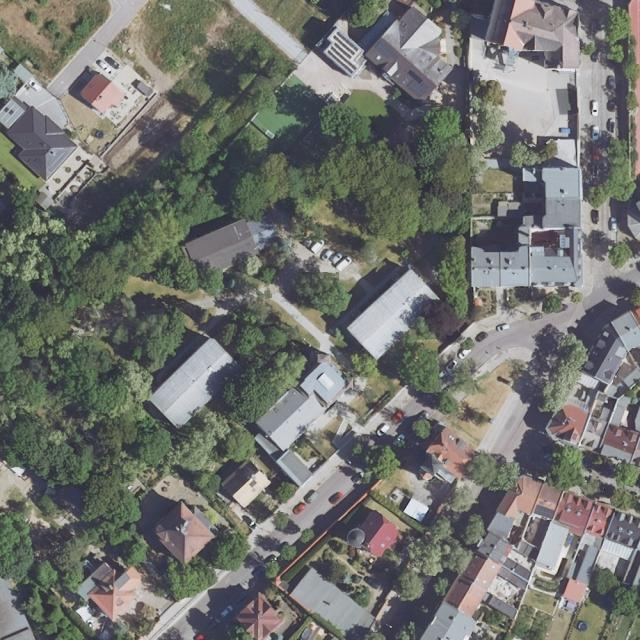PV: (326, 30, 359, 74), (361, 14, 395, 47), (407, 79, 429, 97), (375, 41, 396, 58), (535, 504, 555, 519), (408, 70, 423, 84)
ST: (560, 234, 565, 248)
